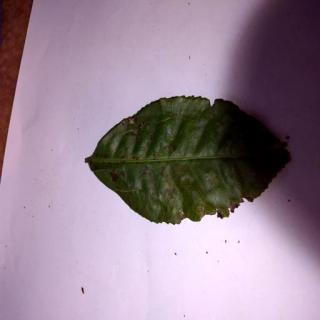Bird Eye Spot: (84, 94, 292, 226)
